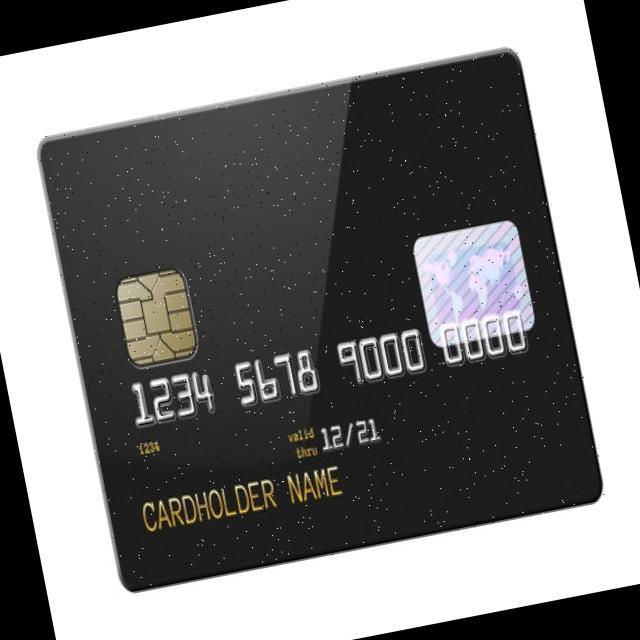payment_card: (35, 45, 604, 591)
